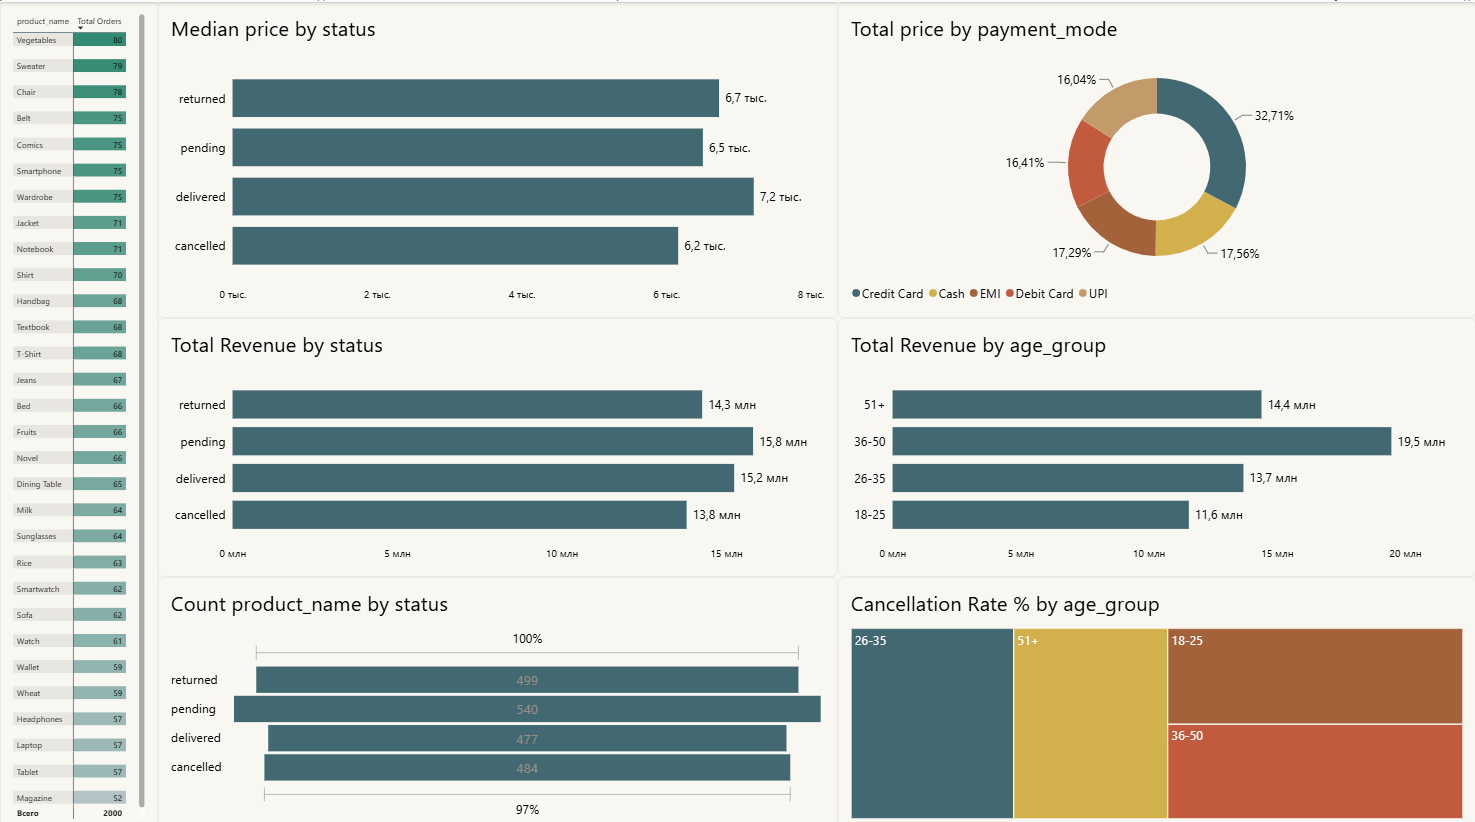

The page's visual inventory and layout, read from the dashboard file:
{"tool":"powerbi","page":{"name":"Part 2  — Deep Dive","canvas":[1920,1080],"ordinal":1},"visuals":[{"type":"donutChart","title":"Total price by payment_mode","fields":{"Category":["Запрос1.payment_mode"],"Y":["Sum(Запрос1.price)"]},"box":[1090,0,830,411.4],"z":0},{"type":"funnel","title":"Count product_name by status","fields":{"Category":["Запрос1.status"],"Y":["CountNonNull(Запрос1.product_name)"]},"box":[205.7,748.6,884.3,331.4],"z":1000},{"type":"pivotTable","fields":{"Rows":["Запрос1.product_name"],"Values":["Запрос1.Total Orders"]},"box":[0,0,205.7,1080],"z":2000},{"type":"clusteredBarChart","title":"Total Revenue by status","fields":{"Category":["Запрос1.status"],"Y":["Запрос1.Total Revenue"]},"box":[205.7,411.4,884.3,337.1],"z":3000},{"type":"treemap","title":"Cancellation Rate % by age_group","fields":{"Group":["Запрос1.age_group"],"Values":["Запрос1.Cancellation Rate %"]},"box":[1090,748.6,830,331.4],"z":4000},{"type":"clusteredBarChart","title":"Median price by status","fields":{"Category":["Запрос1.status"],"Y":["Median(Запрос1.price)"]},"box":[205.7,0,884.3,411.4],"z":5000},{"type":"clusteredBarChart","title":"Total Revenue by age_group","fields":{"Category":["Запрос1.age_group"],"Y":["Запрос1.Total Revenue"]},"box":[1090,411.4,830,337.1],"z":6000}]}

Visuals, with their boxes in screenshot pixels (x1, y1, x2, y2), scaled from the page's 1920x1080 canvas onto the 1475x822 screenshot:
"Total price by payment_mode" donutChart: (837, 0, 1474, 313)
"Count product_name by status" funnel: (158, 570, 837, 821)
pivotTable - Запрос1.product_name x Запрос1.Total Orders: (0, 0, 158, 821)
"Total Revenue by status" clusteredBarChart: (158, 313, 837, 570)
"Cancellation Rate % by age_group" treemap: (837, 570, 1474, 821)
"Median price by status" clusteredBarChart: (158, 0, 837, 313)
"Total Revenue by age_group" clusteredBarChart: (837, 313, 1474, 570)
